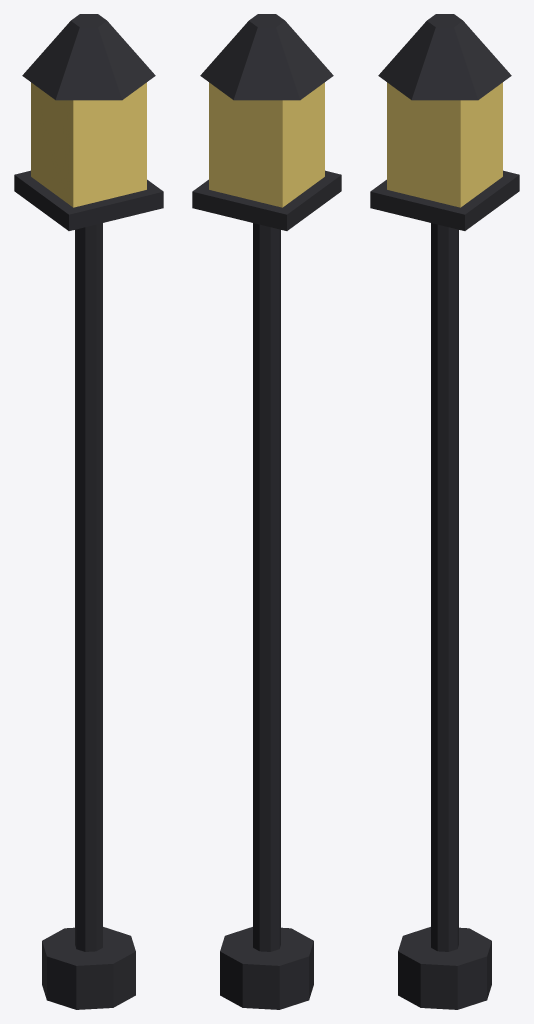
File: Lamppost.fbx
3 renders of one model, left to right at view 1: azimuth 30°, elevation 25°; view 2: azimuth 150°, elevation 25°; view 3: azimuth 330°, elevation 25°, orthographic.
Parts seen in each view (by area): view 1: Iron, Light; view 2: Iron, Light; view 3: Iron, Light.
Boxes of the visible parts, x1,y1,x2,y2 form: Iron: [14, 14, 163, 1009]; Light: [31, 82, 146, 207]; Iron: [192, 14, 341, 1009]; Light: [209, 82, 324, 207]; Iron: [370, 14, 519, 1009]; Light: [387, 82, 502, 207].
Size of the model in its own units: 0.9526 by 8.8 by 1.1.
